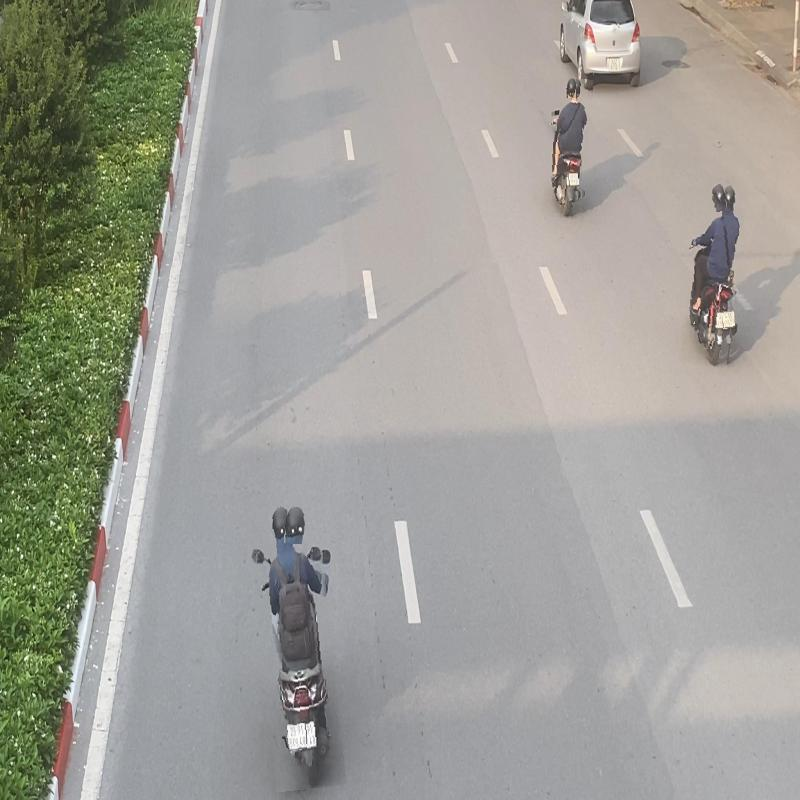helmet: (284, 506, 306, 544), (712, 184, 727, 212), (565, 78, 576, 98), (568, 172, 580, 186)
licenseplate: (288, 724, 308, 750), (722, 311, 735, 328)
motorcyclist: (253, 502, 340, 792), (684, 183, 743, 367), (545, 78, 591, 218)
